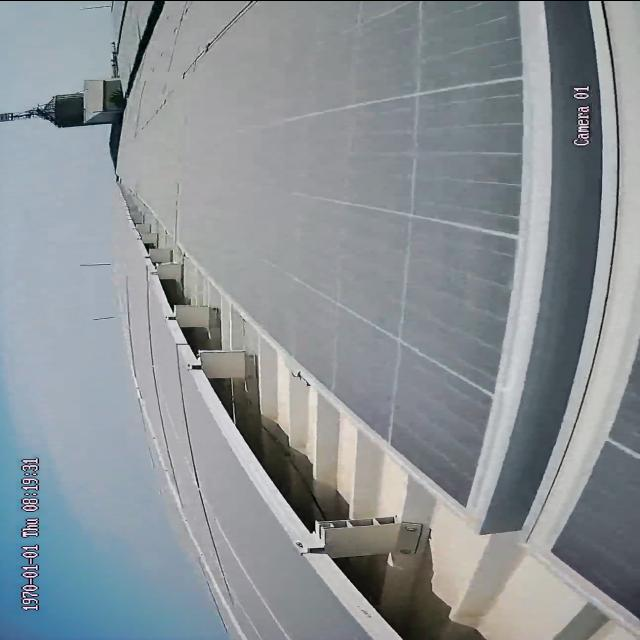interior panel: (467, 0, 637, 547)
outher panel: (123, 181, 626, 638)
